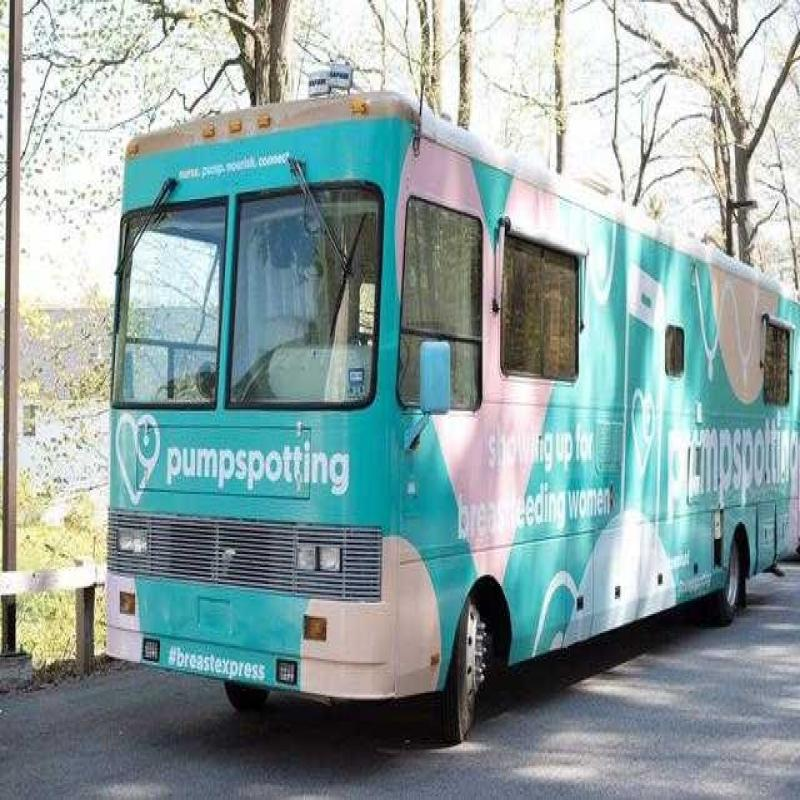bus: (98, 101, 800, 742)
